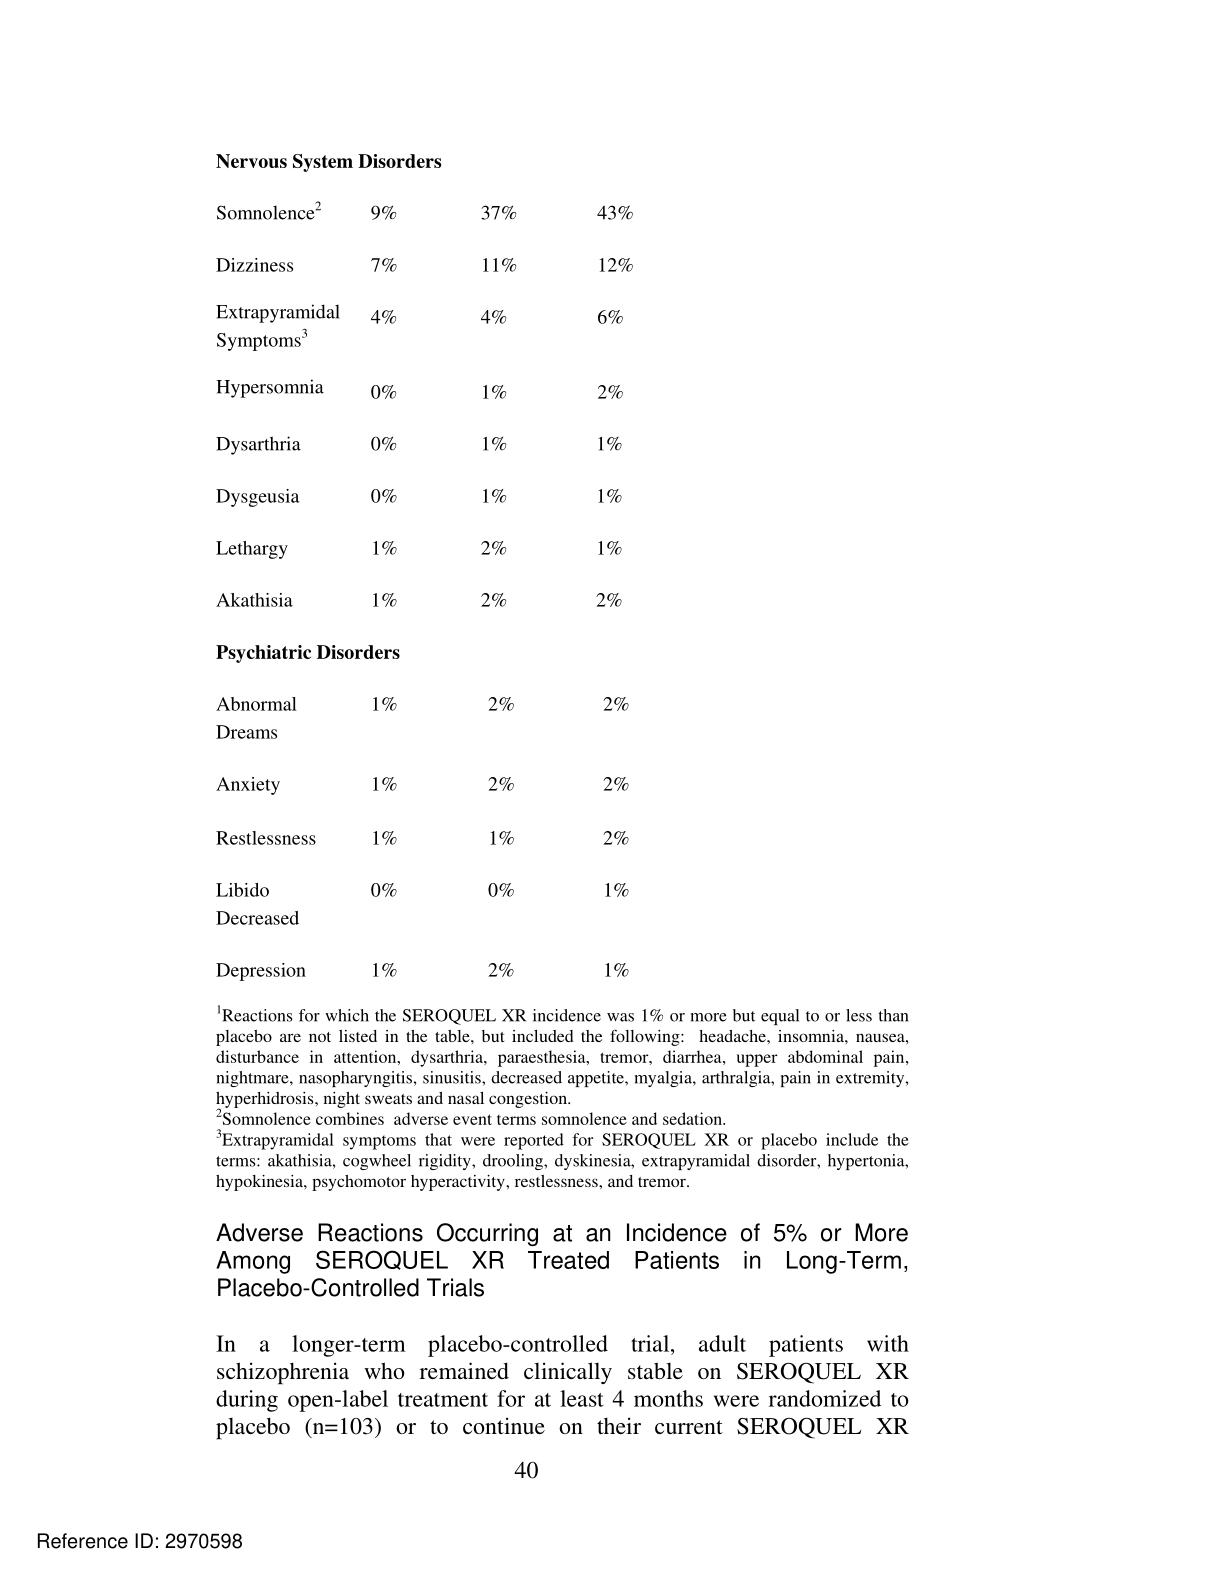nolines: (211, 149, 642, 982)
